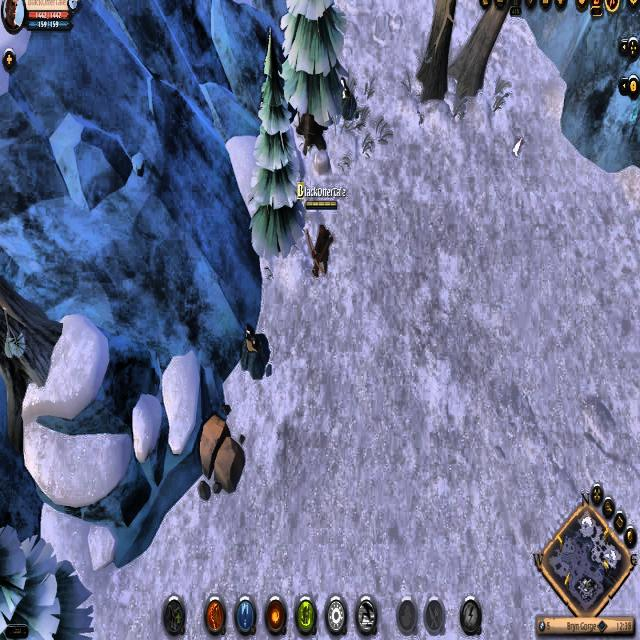copperore: (238, 325, 273, 384), (335, 74, 360, 128)
limestone: (194, 408, 247, 502)
